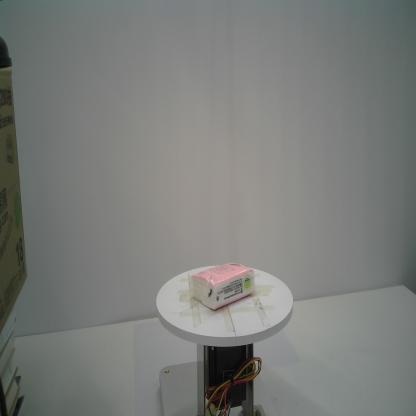Tissue: (188, 260, 256, 312)
